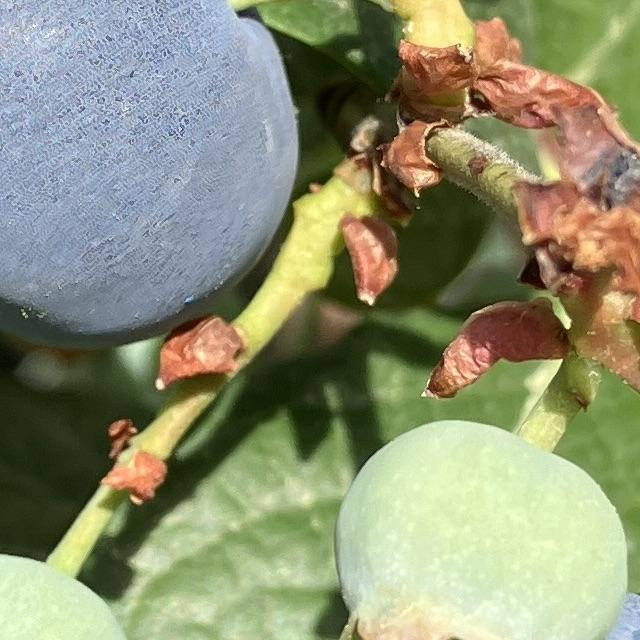Blueberries: (0, 0, 301, 348)
